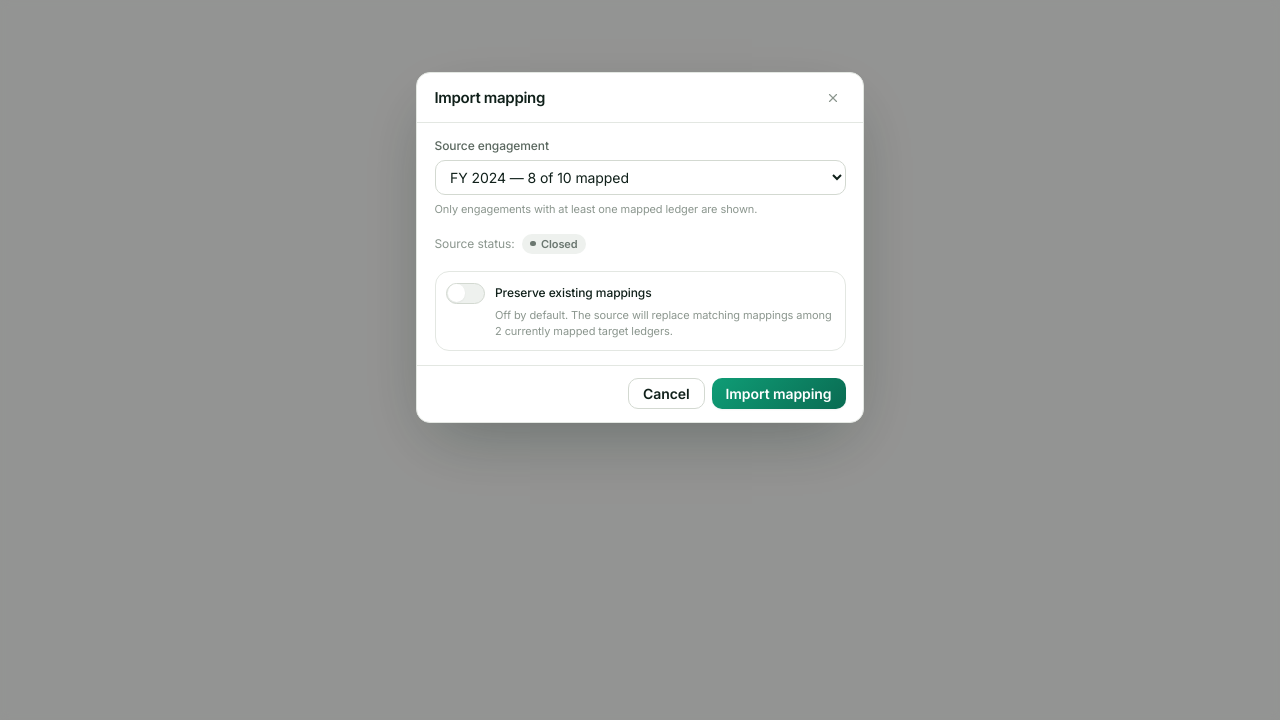
Test case: ImportMappingModal › overwrites existing mappings by default and renders detailed issues
The width and height of the screenshot is (1280, 720).
Expected: the checkbox labelled "Preserve existing mappings" is not checked, [446, 282, 652, 304]
Click the button "Import mapping" at (778, 394), box [712, 378, 846, 409]
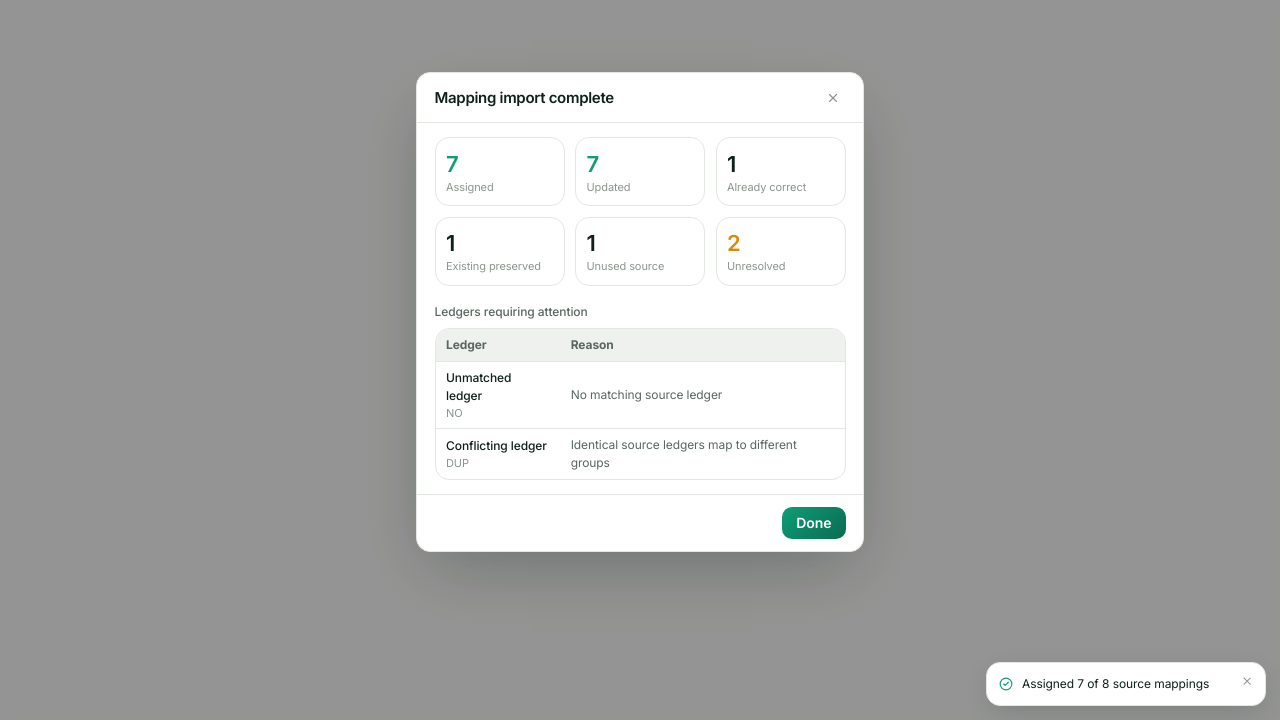
Result: the heading "Mapping import complete" is shown at [434, 86, 614, 108]
Result: the text "Assigned" is shown at [446, 180, 494, 194]
Result: the text "Already correct" is shown at [727, 180, 806, 194]
